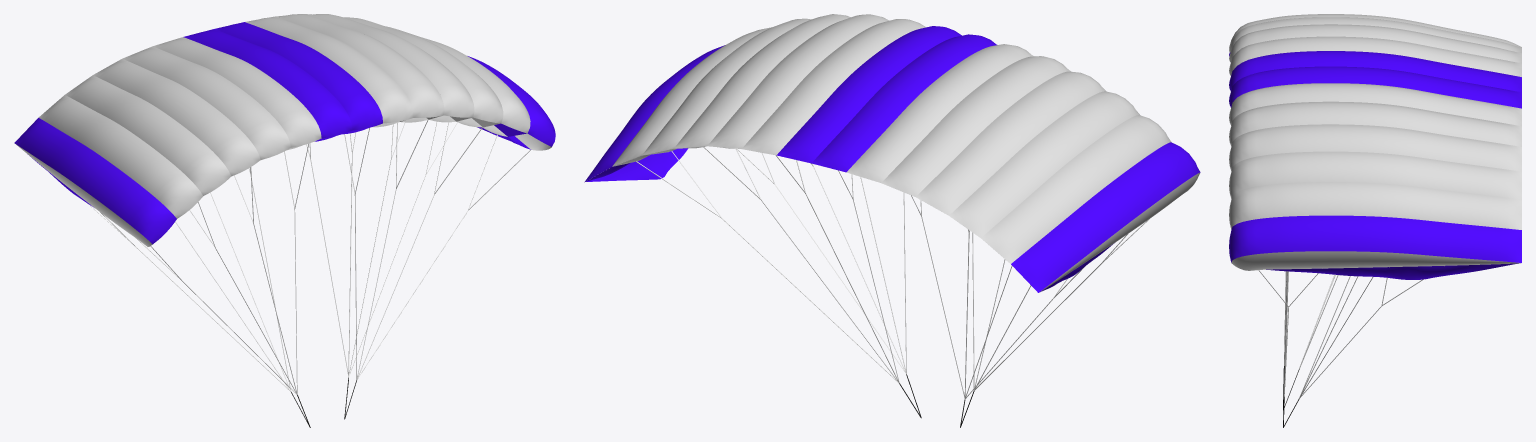
The picture shows the model from 3 angles, left to right: view 1: azimuth 30°, elevation 25°; view 2: azimuth 150°, elevation 25°; view 3: azimuth 270°, elevation 25°; orthographic projection. The views are drawn at different scales.
Parts seen in each view (by area): view 1: Top_3_L, Top_4_L, Top_2_L, Top_1_L, Top_5_L, Top_6_L, Top_7_L, Rib_8_L, c4_lower, c2_lower, c6_lower, c8_lower; view 2: Top_3_L, Top_2_L, Top_4_L, Top_1_L, Top_5_L, Top_6_L, Top_7_L, Stabilizer_L, Rib_8_L; view 3: Top_7_L, Top_3_L, Top_4_L, Top_5_L, Top_2_L, Top_6_L, Top_1_L, Rib_8_L, Stabilizer_L, c2_lower, c4_lower.
Part boxes in pixels (x1,y1,x2,y2): Top_3_L: (122,14,444,159); Top_4_L: (93,14,474,176); Top_2_L: (153,16,413,147); Top_1_L: (183,22,382,138); Top_5_L: (65,17,503,195); Top_6_L: (39,26,530,218); Top_7_L: (14,56,555,244); Rib_8_L: (16,133,551,246); c4_lower: (210,153,352,390); c2_lower: (250,159,348,391); c6_lower: (175,159,391,390); c8_lower: (135,175,426,391); Top_3_L: (707,14,1070,196); Top_2_L: (742,19,1033,182); Top_4_L: (674,14,1106,215); Top_1_L: (777,26,996,172); Top_5_L: (642,18,1139,237); Top_6_L: (612,27,1171,263); Top_7_L: (585,45,1200,292); Stabilizer_L: (586,148,1114,291); Rib_8_L: (609,168,1199,292); Top_7_L: (1229,52,1521,262); Top_3_L: (1229,24,1521,146); Top_4_L: (1229,17,1521,171); Top_5_L: (1229,14,1521,199); Top_2_L: (1229,36,1521,126); Top_6_L: (1229,48,1521,229); Top_1_L: (1229,51,1521,108); Rib_8_L: (1231,251,1520,270); Stabilizer_L: (1266,263,1518,279); c2_lower: (1299,275,1350,395); c4_lower: (1299,274,1358,397).
Bounding box in the file's own units: 6.27 × 4.74 × 3.53.
